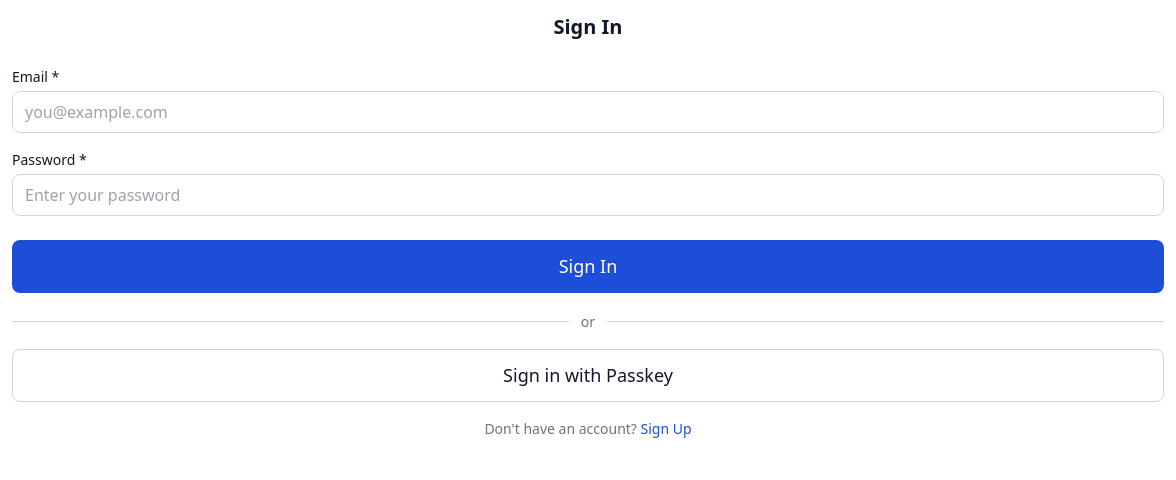
Test: sign-in page › shows email validation error for invalid email
The width and height of the screenshot is (1176, 480).
Type "not-an-email" into the field with id "sign-in-email" at point(588, 112), box left=12, top=91, right=1164, bottom=133
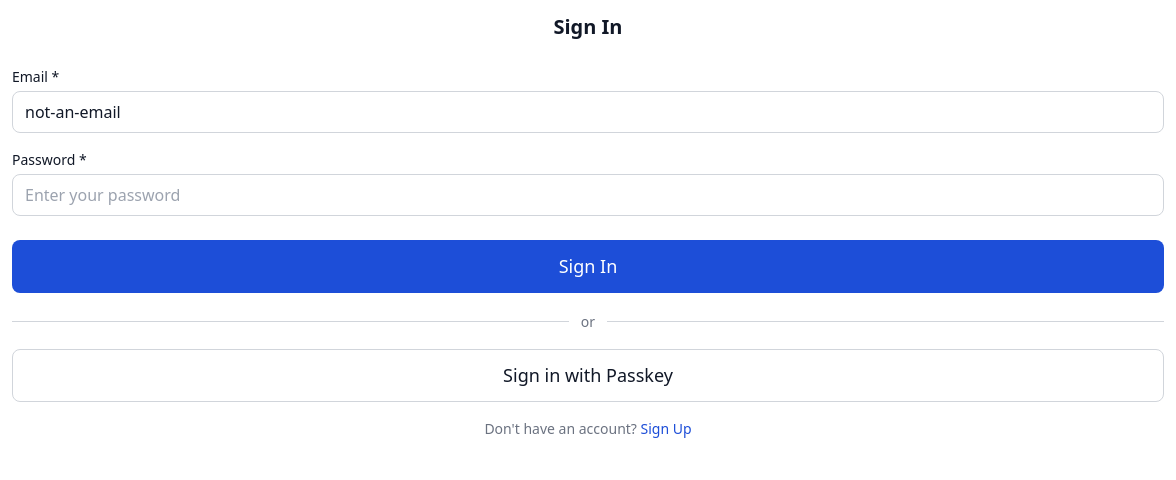
Type "12345678" into the password field with id "sign-in-password" at point(588, 195), box left=12, top=174, right=1164, bottom=216
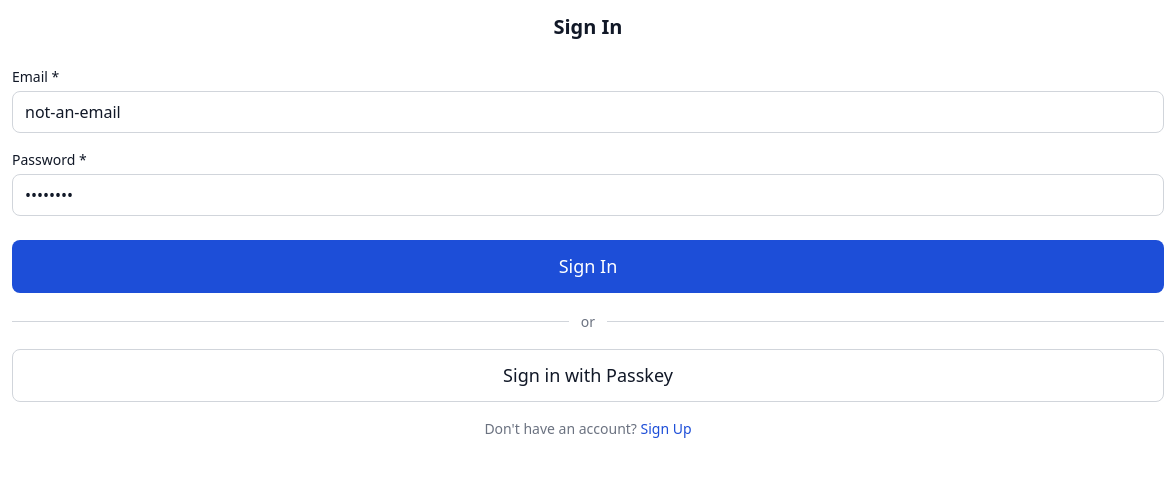
Submit the form, box left=12, top=66, right=1164, bottom=293
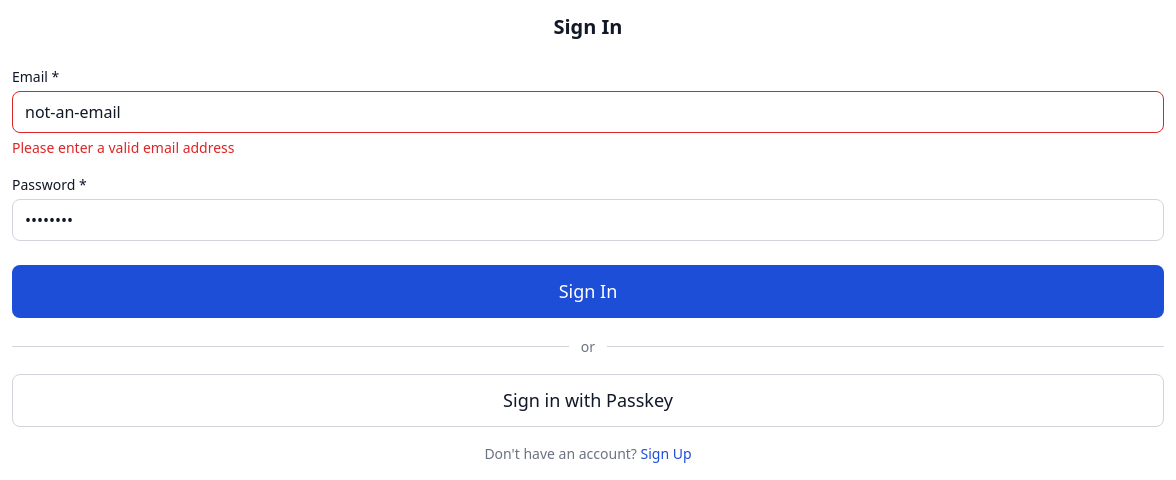
Result: the text "Please enter a valid email address" is shown at left=12, top=138, right=234, bottom=157
